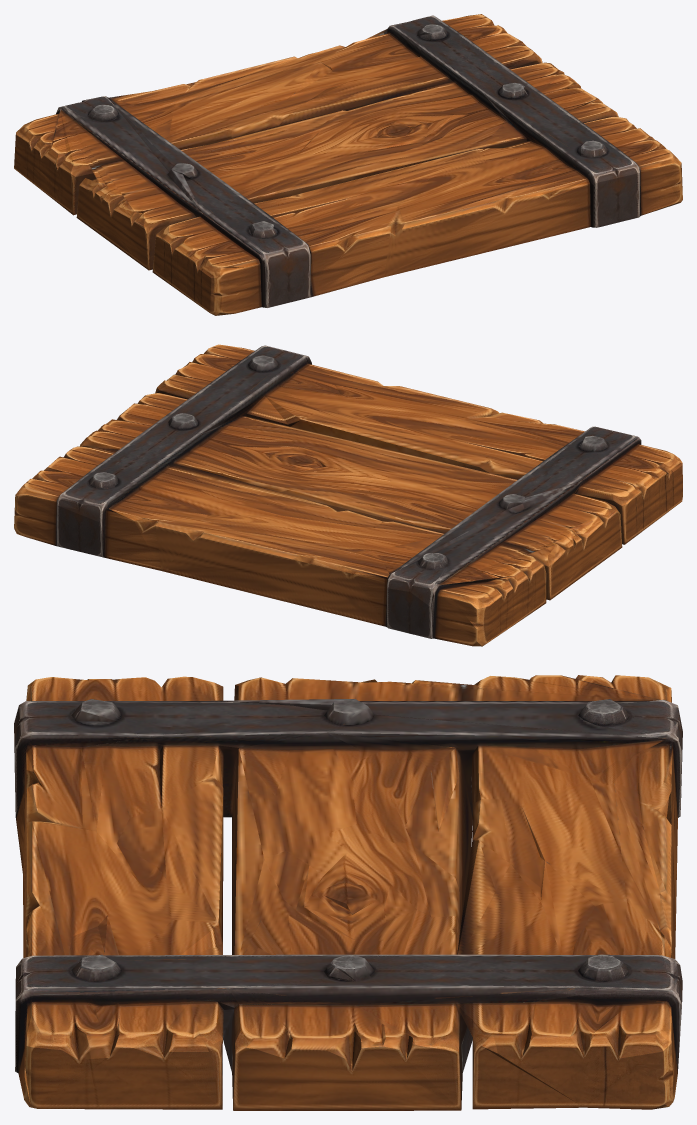
Rendered from wooden-crate-lid-iron-straps.glb.
3 views of the same model, one above another, from view 1: azimuth 30°, elevation 25°; view 2: azimuth 150°, elevation 25°; view 3: azimuth 270°, elevation 25° (orthographic). The views are drawn at different scales.
Size of the model in its own units: 1.9 by 0.2263 by 1.46.
1 material, 1 textured.
